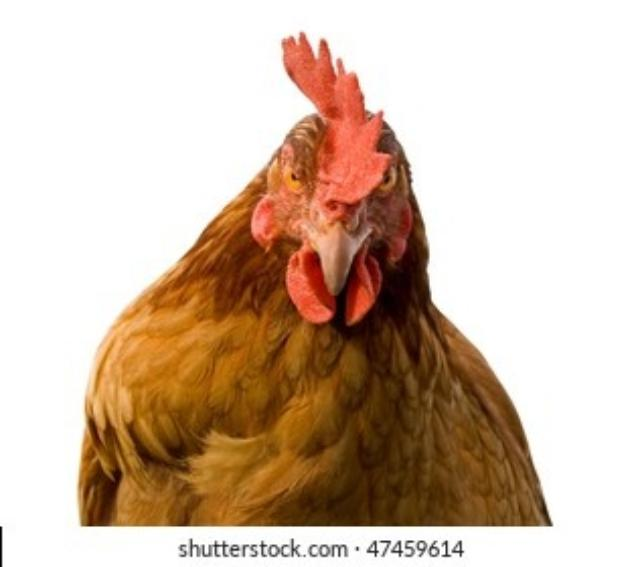Chicken: (75, 32, 553, 526)
